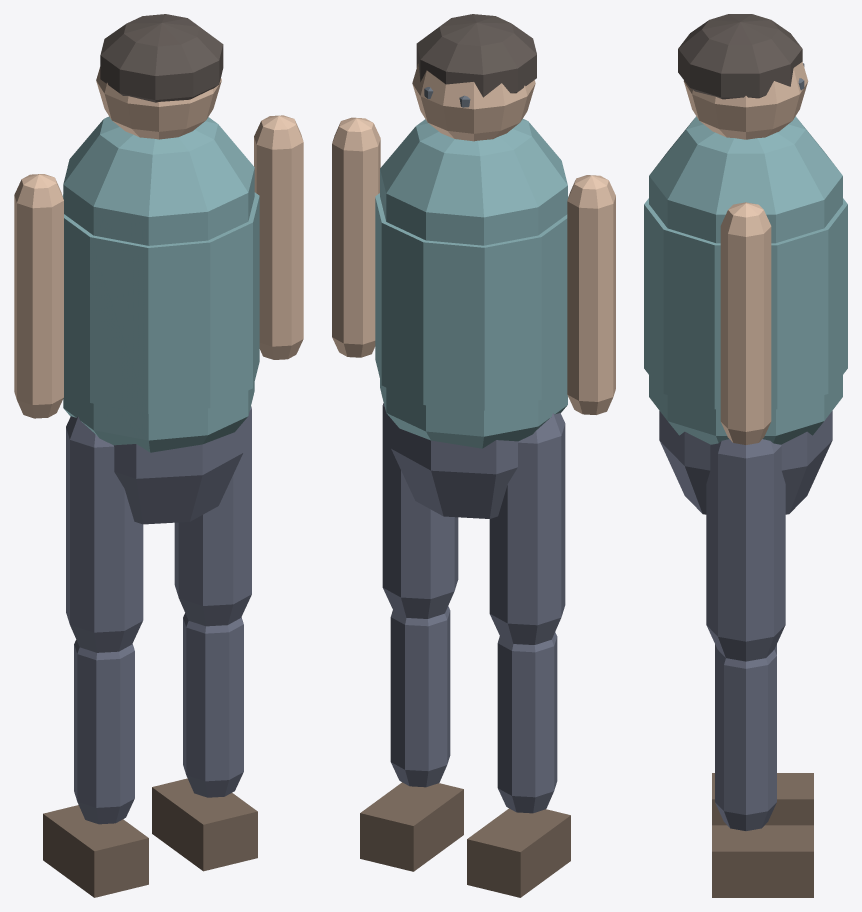
Rendered from vessel_man.glb.
The picture shows the model from 3 angles, left to right: view 1: azimuth 30°, elevation 25°; view 2: azimuth 150°, elevation 25°; view 3: azimuth 270°, elevation 25°; orthographic projection.
Parts seen in each view (by area): view 1: VesselBody_man; view 2: VesselBody_man; view 3: VesselBody_man.
Boxes of the visible parts, <box> form: VesselBody_man: <box>14,14,303,897</box>; VesselBody_man: <box>332,14,615,897</box>; VesselBody_man: <box>644,14,847,897</box>.
Size of the model in its own units: 0.574 by 1.63 by 0.36.
